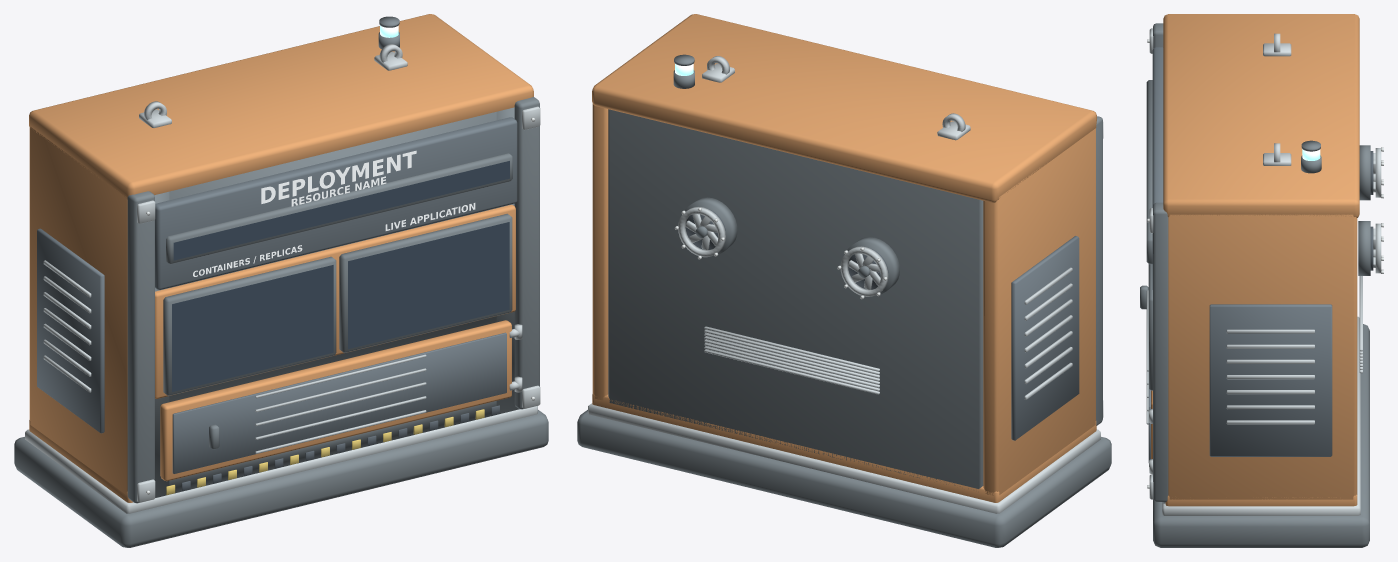
Rendered from deployment_line_enhanced.glb.
The picture shows the model from 3 angles, left to right: view 1: azimuth 30°, elevation 25°; view 2: azimuth 150°, elevation 25°; view 3: azimuth 270°, elevation 25°; orthographic projection. The views are drawn at different scales.
Parts seen in each view (by area): view 1: Roof_orange, FrontHeader_graphite, Skid_frame, SideWall_orange, DoorMoving_Inset_graphite, CornerPost_frame, ContainerListSurface_glass, LiveViewSurface_glass, SideServicePanel_graphite, DoorMoving_Panel_orange, ResourceNameSurface_glass, SealHeader_frame (+15 smaller); view 2: BackWall_frame, Roof_orange, SideWall_orange, Skid_frame, SideServicePanel_graphite, SkidDeck_steel, KickPlate_orange, RearVent_steel, RearFan_steel, CornerPost_frame, RearFan_frame, SideLouver_steel (+1 smaller); view 3: Roof_orange, SideWall_orange, SideServicePanel_graphite, Skid_frame, CornerPost_frame, SideLouver_steel, SkidDeck_steel, FrontHeader_graphite, KickPlate_orange, RearFan_frame, ResourceNameSurfaceFrame_frame, RearFan_steel (+6 smaller).
Part boxes in pixels (x1,y1,x2,y2): Roof_orange: (29,14,533,199); FrontHeader_graphite: (155,117,517,289); Skid_frame: (14,410,548,547); SideWall_orange: (29,127,127,494); DoorMoving_Inset_graphite: (172,332,506,473); CornerPost_frame: (127,97,539,503); ContainerListSurface_glass: (172,265,333,391); LiveViewSurface_glass: (348,222,509,349); SideServicePanel_graphite: (37,228,104,433); DoorMoving_Panel_orange: (160,320,511,481); ResourceNameSurface_glass: (173,161,509,260); SealHeader_frame: (169,112,496,401); BackWall_frame: (608,109,983,488); Roof_orange: (592,14,1096,202); SideWall_orange: (592,104,1095,495); Skid_frame: (577,410,1111,547); SideServicePanel_graphite: (1011,236,1079,440); SkidDeck_steel: (588,403,1100,513); KickPlate_orange: (592,393,1096,502); RearVent_steel: (704,326,879,394); RearFan_steel: (678,207,888,296); CornerPost_frame: (1096,116,1102,425); RearFan_frame: (685,197,899,295); SideLouver_steel: (1024,267,1072,399); Roof_orange: (1163,14,1359,217); SideWall_orange: (1168,214,1357,499); SideServicePanel_graphite: (1209,304,1332,456); Skid_frame: (1153,324,1369,547); CornerPost_frame: (1153,23,1168,501); SideLouver_steel: (1226,329,1314,424); SkidDeck_steel: (1162,316,1360,515); FrontHeader_graphite: (1152,47,1163,289); KickPlate_orange: (1165,494,1357,506); RearFan_frame: (1358,145,1370,275); ResourceNameSurfaceFrame_frame: (1146,80,1152,264); RearFan_steel: (1373,148,1381,273).
Bounding box in the file's own units: 3 × 2.59 × 1.55.
